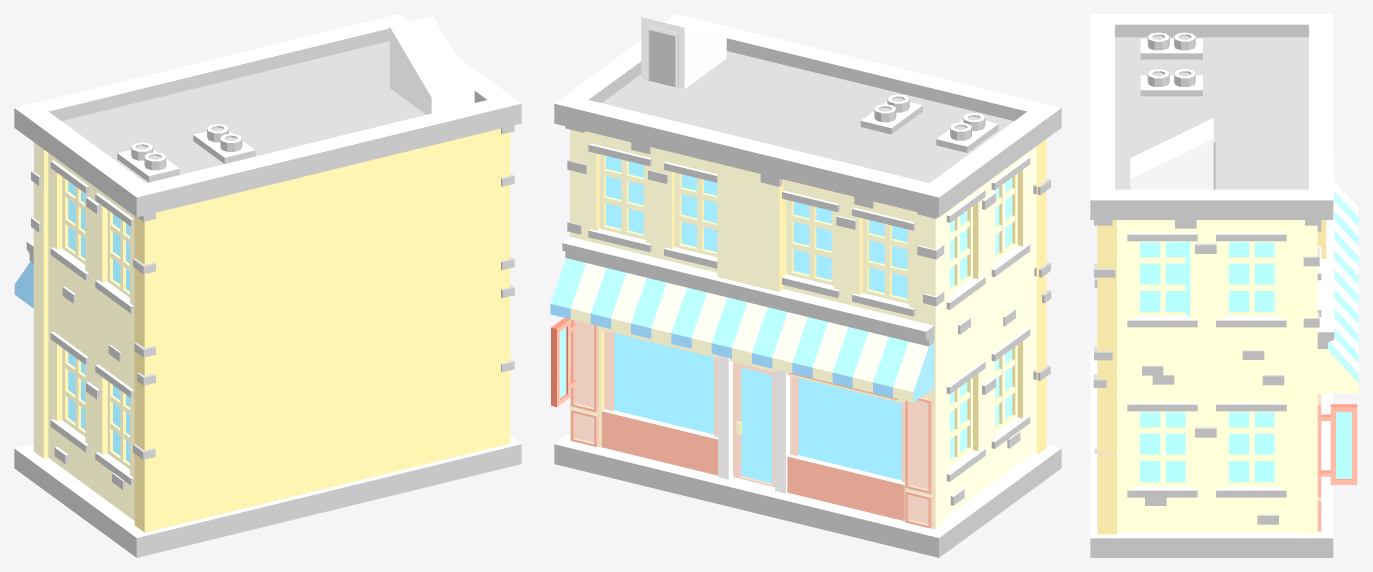
File: dwelling&store.002.glb
The picture shows the model from 3 angles, left to right: view 1: azimuth 30°, elevation 25°; view 2: azimuth 150°, elevation 25°; view 3: azimuth 270°, elevation 25°; orthographic projection.
Parts seen in each view (by area): view 1: dwelling&store.002(Clone); view 2: dwelling&store.002(Clone); view 3: dwelling&store.002(Clone).
Boxes of the visible parts, left/top/right/bottom form: dwelling&store.002(Clone): left=14, top=14, right=521, bottom=557; dwelling&store.002(Clone): left=550, top=14, right=1061, bottom=557; dwelling&store.002(Clone): left=1090, top=14, right=1358, bottom=557.
Size of the model in its own units: 7.08 by 7.2 by 4.31.
Materials: 1 (1 with a texture image).
